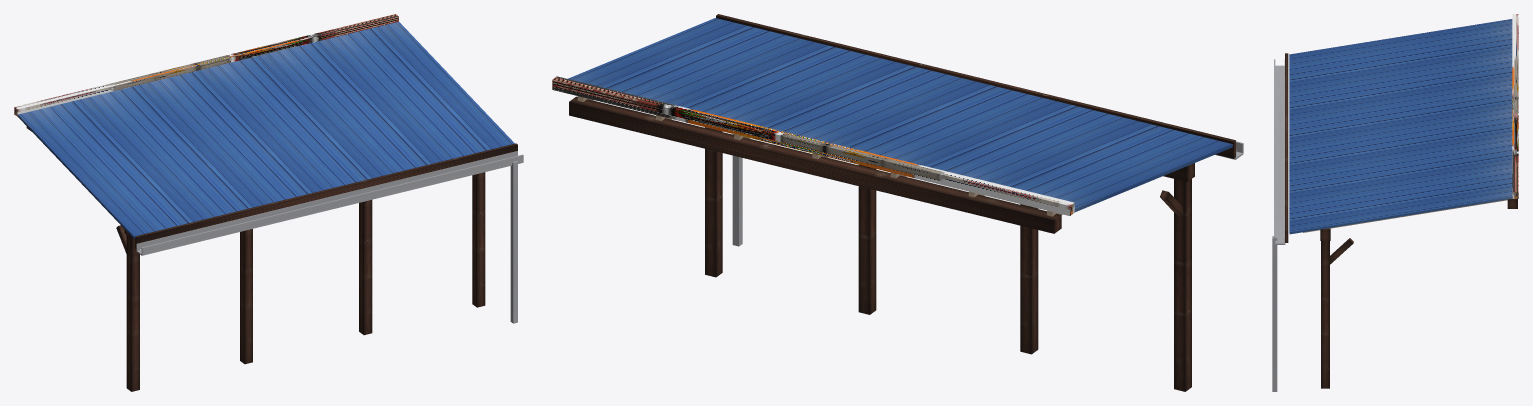
The model's file is Roof_Porch_6x3.fbx.
3 renders of one model, left to right at view 1: azimuth 30°, elevation 25°; view 2: azimuth 150°, elevation 25°; view 3: azimuth 270°, elevation 25°, orthographic. The views are drawn at different scales.
Parts seen in each view (by area): view 1: Roof_Porch_6x3; view 2: Roof_Porch_6x3; view 3: Roof_Porch_6x3.
Part boxes in pixels (x1,y1,x2,y2): Roof_Porch_6x3: (14, 14, 523, 391); Roof_Porch_6x3: (552, 14, 1243, 391); Roof_Porch_6x3: (1272, 14, 1518, 391).
Bounding box in the file's own units: 6.4 × 3.41 × 3.75.
